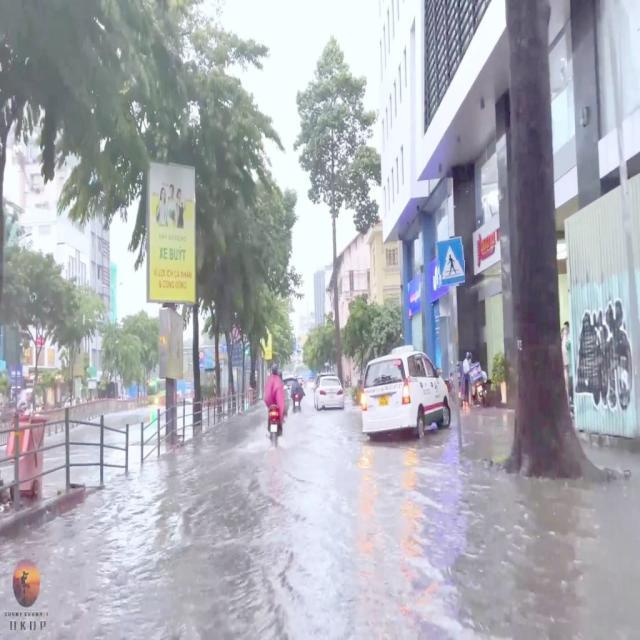224-duong-nguoi-di-bo-cat-ngang: (434, 236, 466, 284)
